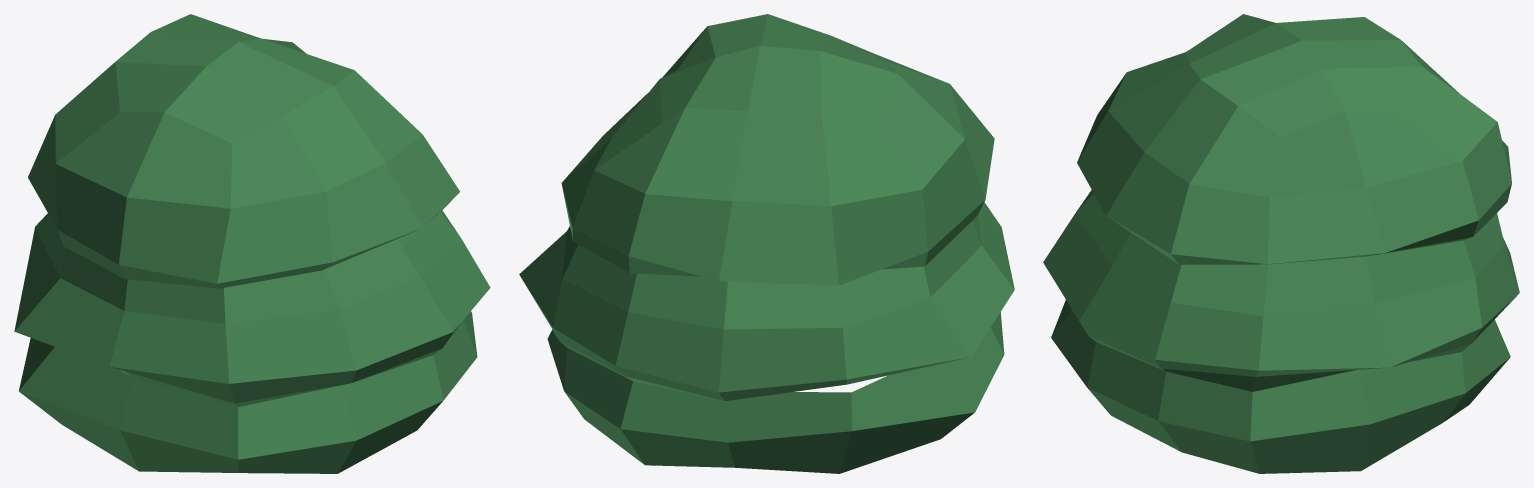
Rendered from Bush_2-optimized.glb.
3 renders of one model, left to right at view 1: azimuth 30°, elevation 25°; view 2: azimuth 150°, elevation 25°; view 3: azimuth 270°, elevation 25°, orthographic. The views are drawn at different scales.
Visible parts, largest first — view 1: Bush_2; view 2: Bush_2; view 3: Bush_2.
Boxes of the visible parts, bbox=[...] form: Bush_2: bbox=[14, 14, 490, 473]; Bush_2: bbox=[519, 14, 1014, 473]; Bush_2: bbox=[1043, 14, 1519, 473].
Bounding box in the file's own units: 1.35 × 1.11 × 1.33.
